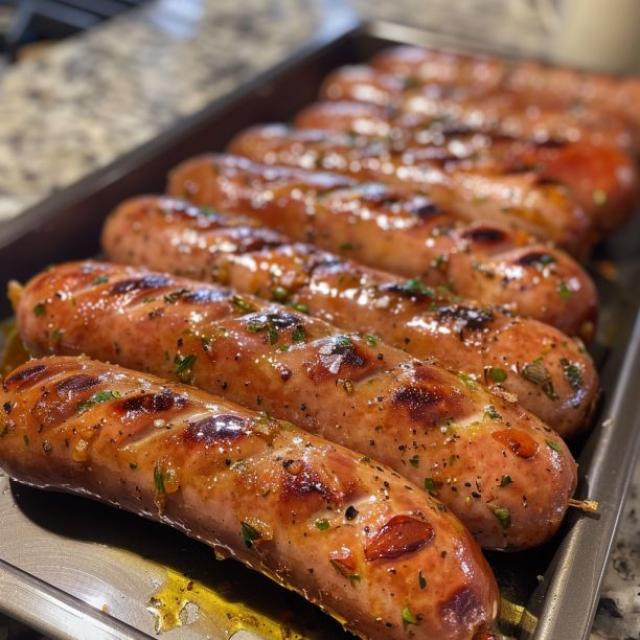sausage: (16, 263, 576, 549), (0, 358, 498, 639), (103, 197, 598, 438), (169, 154, 597, 338), (227, 124, 597, 255), (296, 102, 637, 233), (320, 66, 639, 152), (372, 47, 639, 128), (371, 47, 514, 90)
